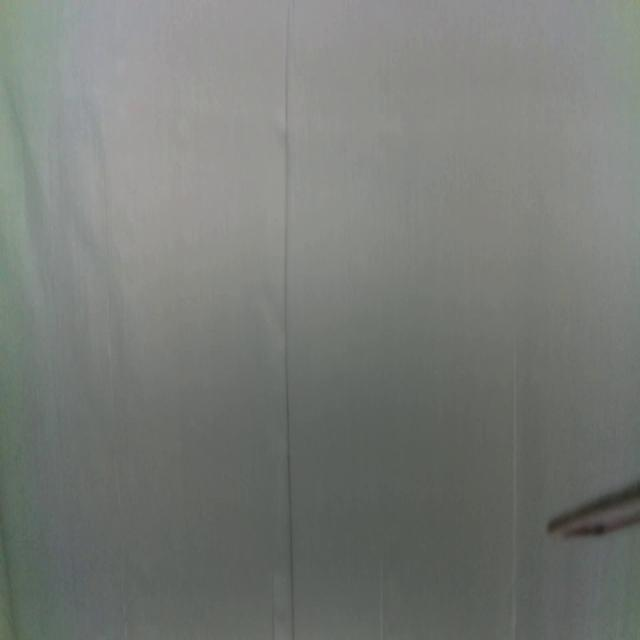crease: (282, 1, 296, 640), (510, 349, 519, 640)
